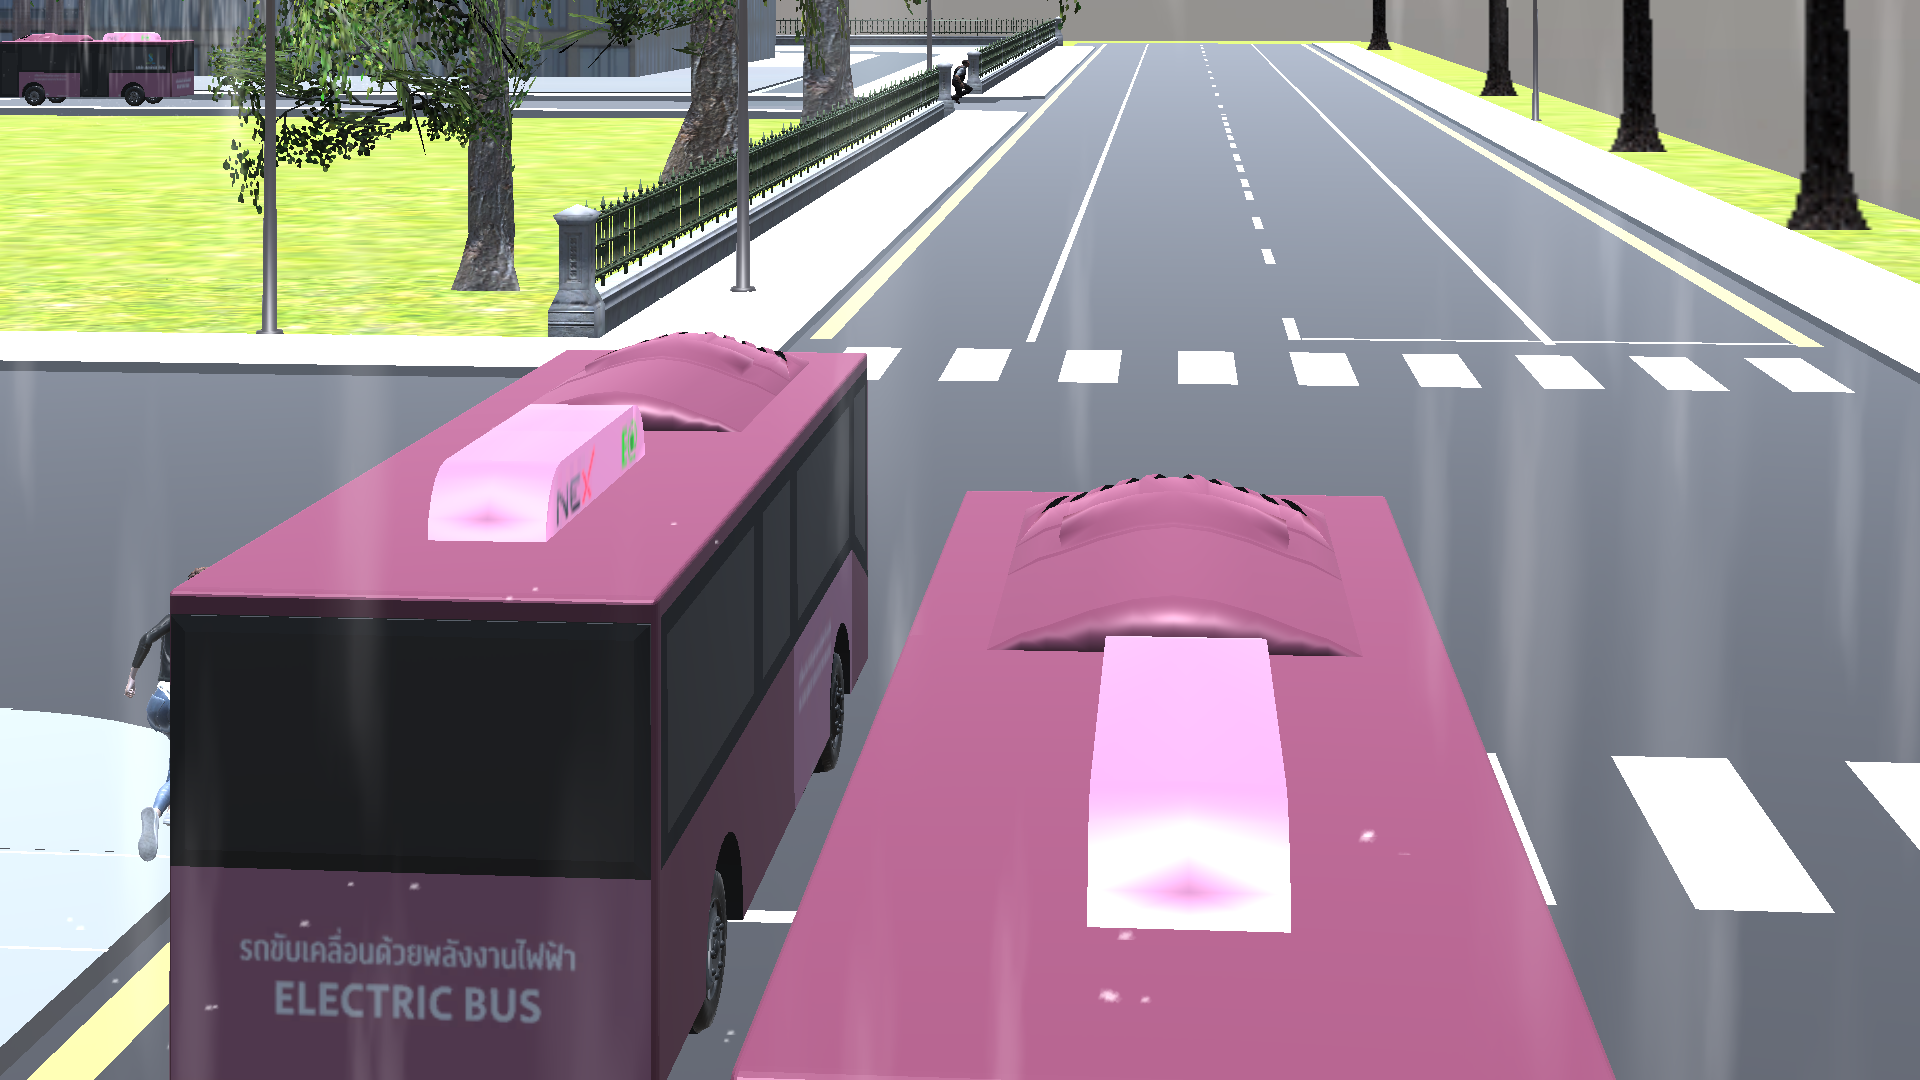pedestrian: (103, 562, 178, 869), (951, 48, 976, 103)
